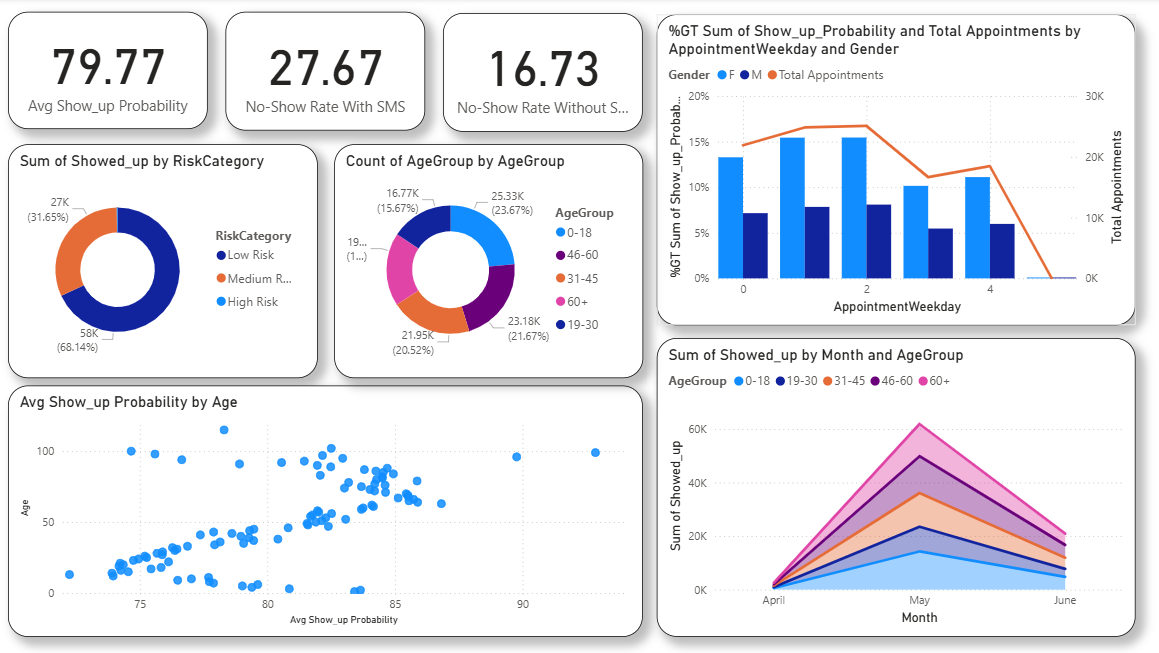

The dashboard page shown, as its layout file describes it:
{"tool":"powerbi","page":{"name":"Page 1","canvas":[1280,720],"ordinal":0},"visuals":[{"type":"card","fields":{"Values":["appointment_predictions.Avg Show_up Probability"]},"box":[16.5,15.1,219.6,129],"z":0},{"type":"card","fields":{"Values":["appointment_predictions.No-Show Rate Without SMS"]},"box":[494,16.5,219.6,130.4],"z":1},{"type":"card","fields":{"Values":["appointment_predictions.No-Show Rate With SMS"]},"box":[255.2,15.1,219.6,130.4],"z":2},{"type":"donutChart","fields":{"Category":["appointment_predictions.RiskCategory"],"Y":["Sum(appointment_predictions.Showed_up)"]},"box":[16,160.5,340,256.6],"z":3},{"type":"scatterChart","fields":{"Y":["appointment_predictions.Age"],"X":["appointment_predictions.Avg Show_up Probability"]},"box":[16.5,425.4,697.1,275.8],"z":4},{"type":"lineClusteredColumnComboChart","fields":{"Category":["appointment_predictions.AppointmentWeekday"],"Y":["Sum(appointment_predictions.Show_up_Probability)"],"Y2":["appointment_predictions.Total Appointments"],"Series":["appointment_predictions.Gender"]},"box":[728.6,17.8,525.6,341.7],"z":5},{"type":"stackedAreaChart","fields":{"Category":["appointment_predictions.AppointmentDay.Variation.Date Hierarchy.Month"],"Y":["Sum(appointment_predictions.Showed_up)"],"Series":["appointment_predictions.AgeGroup"]},"box":[728.6,373.2,525.6,328],"z":6},{"type":"donutChart","fields":{"Category":["appointment_predictions.AgeGroup"],"Y":["CountNonNull(appointment_predictions.AgeGroup)"]},"box":[374.6,160.5,338.9,256.6],"z":7}]}

Visuals, with their boxes in screenshot pixels (x1, y1, x2, y2), scaled from the page's 1280x720 canvas onto the 1159x653 screenshot:
card - appointment_predictions.Avg Show_up Probability: l=15, t=14, r=214, b=131
card - appointment_predictions.No-Show Rate Without SMS: l=447, t=15, r=646, b=133
card - appointment_predictions.No-Show Rate With SMS: l=231, t=14, r=430, b=132
donutChart - appointment_predictions.RiskCategory x Sum(appointment_predictions.Showed_up): l=14, t=146, r=322, b=378
scatterChart - appointment_predictions.Age x appointment_predictions.Avg Show_up Probability: l=15, t=386, r=646, b=636
lineClusteredColumnComboChart - appointment_predictions.AppointmentWeekday x Sum(appointment_predictions.Show_up_Probability): l=660, t=16, r=1136, b=326
stackedAreaChart - appointment_predictions.AppointmentDay.Variation.Date Hierarchy.Month x Sum(appointment_predictions.Showed_up): l=660, t=338, r=1136, b=636
donutChart - appointment_predictions.AgeGroup x CountNonNull(appointment_predictions.AgeGroup): l=339, t=146, r=646, b=378
